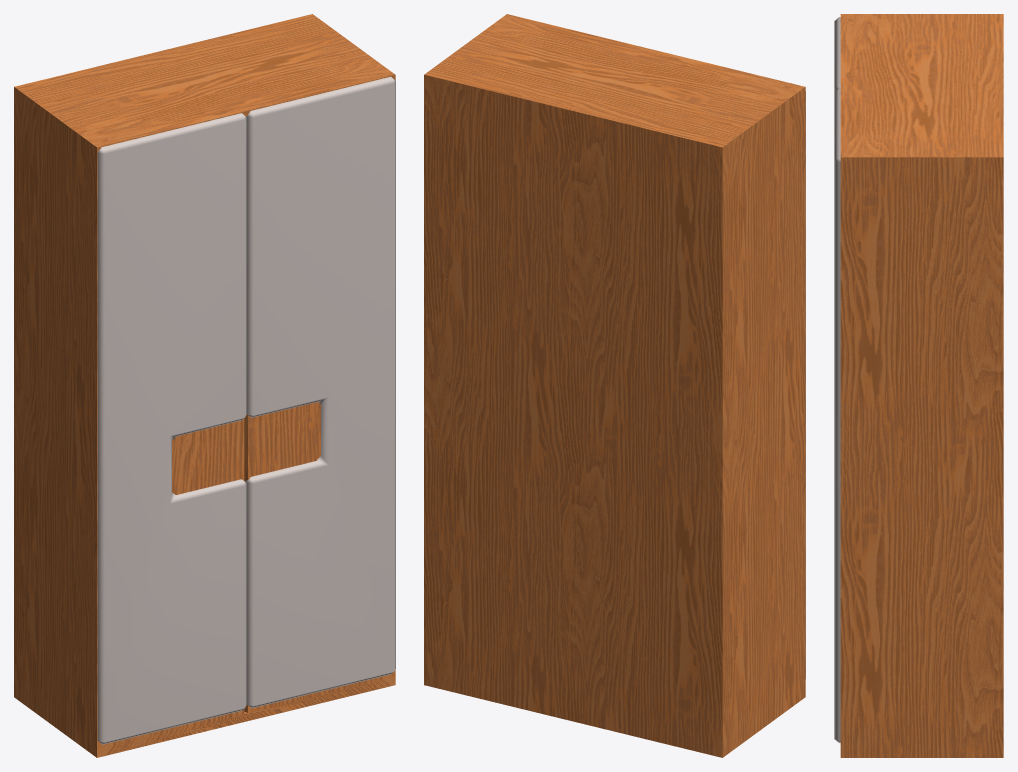
Rendered from cupboard_031.fbx.
3 views of the same model, side by side, from view 1: azimuth 30°, elevation 25°; view 2: azimuth 150°, elevation 25°; view 3: azimuth 270°, elevation 25° (orthographic).
Visible parts, largest first — view 1: cupboard_031; view 2: cupboard_031; view 3: cupboard_031.
Boxes of the visible parts, x1,y1,x2,y2 form: cupboard_031: (14,14,395,757); cupboard_031: (424,14,805,757); cupboard_031: (834,14,1003,757).
Bounding box in the file's own units: 138 × 69.25 × 271.
